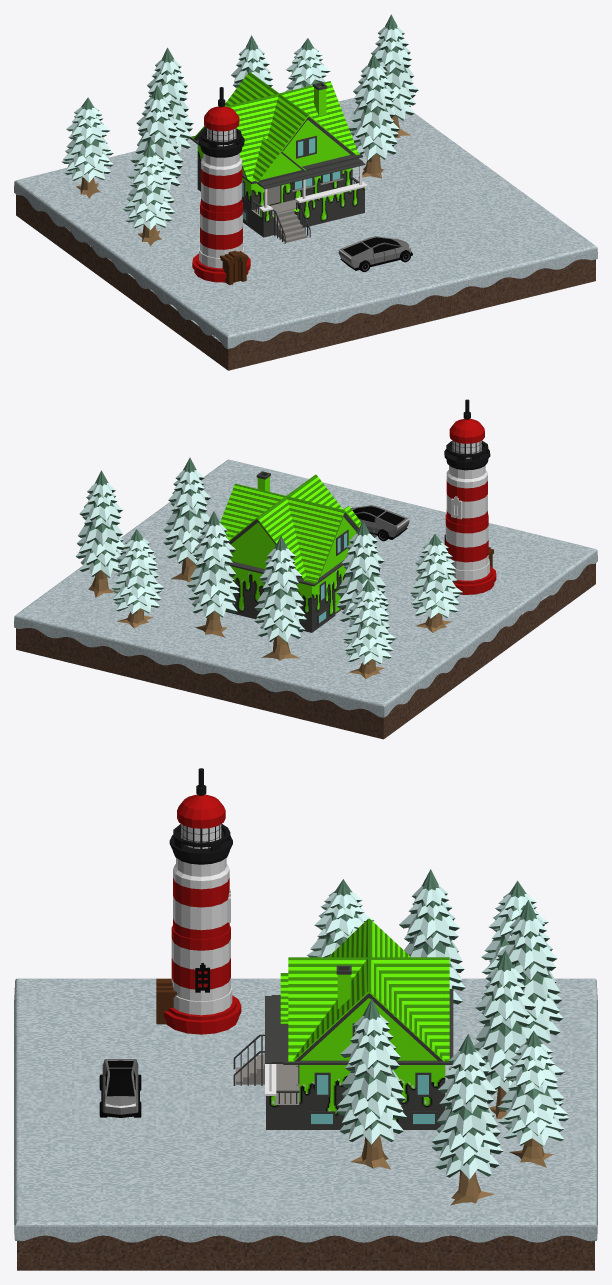
3 views of the same model, one above another, from view 1: azimuth 30°, elevation 25°; view 2: azimuth 150°, elevation 25°; view 3: azimuth 270°, elevation 25° (orthographic). The views are drawn at different scales.
Parts seen in each view (by area): view 1: Cube.003, Cube.754, OBJRANDOM_LIGHTHOUSE, VEHICLES_CYBERTRUCK; view 2: Cube.003, Cube.754, OBJRANDOM_LIGHTHOUSE, VEHICLES_CYBERTRUCK; view 3: Cube.003, Cube.754, OBJRANDOM_LIGHTHOUSE, VEHICLES_CYBERTRUCK.
Part boxes in pixels (<box>): Cube.003: <box>14,14,597,370</box>; Cube.754: <box>189,72,367,243</box>; OBJRANDOM_LIGHTHOUSE: <box>192,87,250,285</box>; VEHICLES_CYBERTRUCK: <box>338,236,412,272</box>; Cube.003: <box>14,457,597,739</box>; Cube.754: <box>220,471,379,632</box>; OBJRANDOM_LIGHTHOUSE: <box>444,399,496,594</box>; VEHICLES_CYBERTRUCK: <box>351,505,409,541</box>; Cube.003: <box>14,869,597,1270</box>; Cube.754: <box>233,918,453,1129</box>; OBJRANDOM_LIGHTHOUSE: <box>156,768,241,1034</box>; VEHICLES_CYBERTRUCK: <box>99,1058,141,1117</box>.
Size of the model in its own units: 4040 by 2354 by 4040.
Materials: 27 (4 with a texture image).
